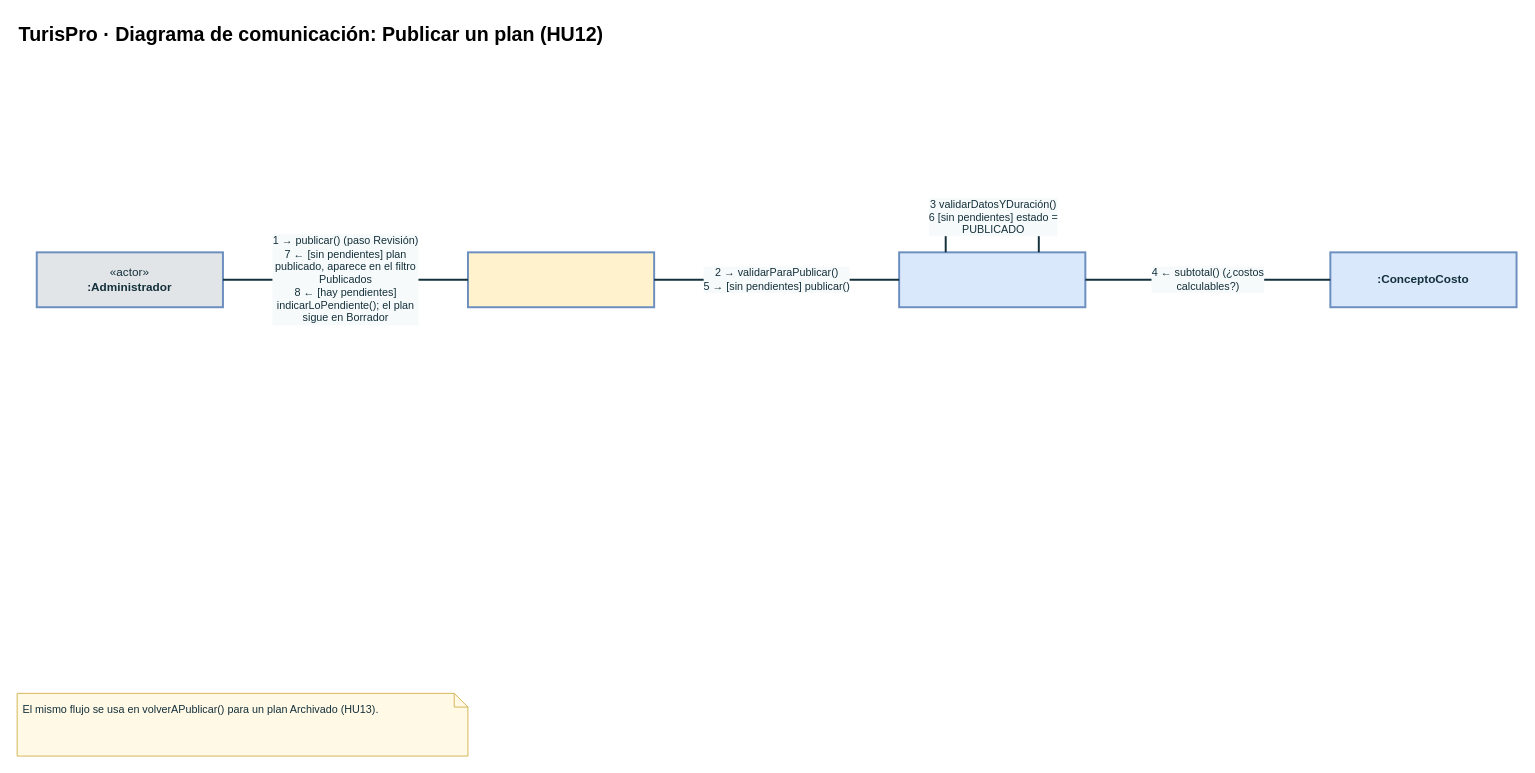
This 1535x773 diagram has some shape labels left out. Here are the shapes that lost their labels. From the top down, the box of each, then its label:
(466, 251, 655, 308): «pantalla» :Editor
(898, 251, 1086, 308): :PlanTuristico
